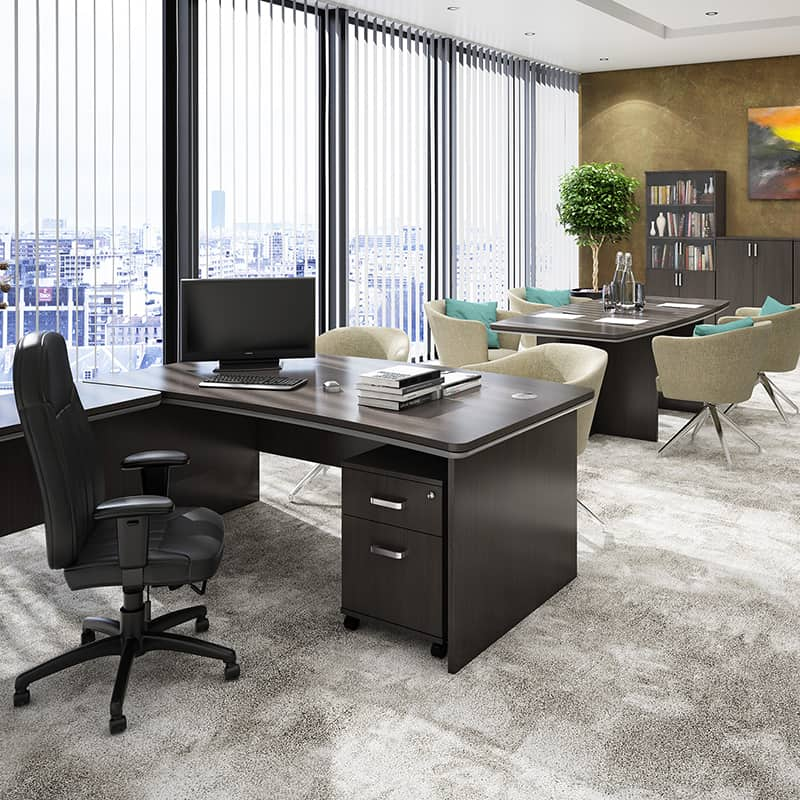conference_table: (82, 349, 598, 674), (491, 291, 731, 444)
